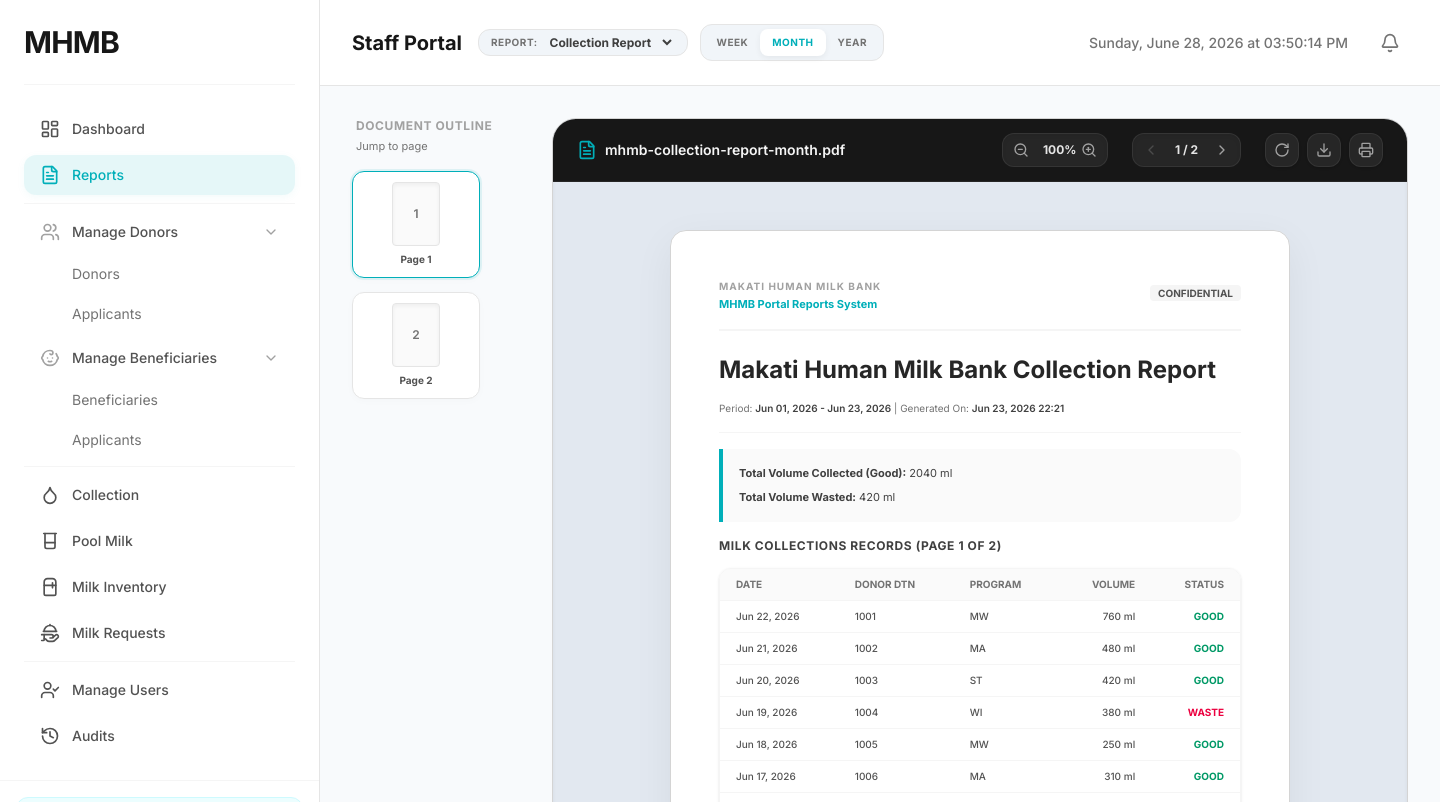
StaffReports Component › allows switching report type and range, updating layout and filename
# Switch to processing report
Select "Processing Report" in the dropdown with test id "report-type-select" at (610, 42), box [546,34,675,51]
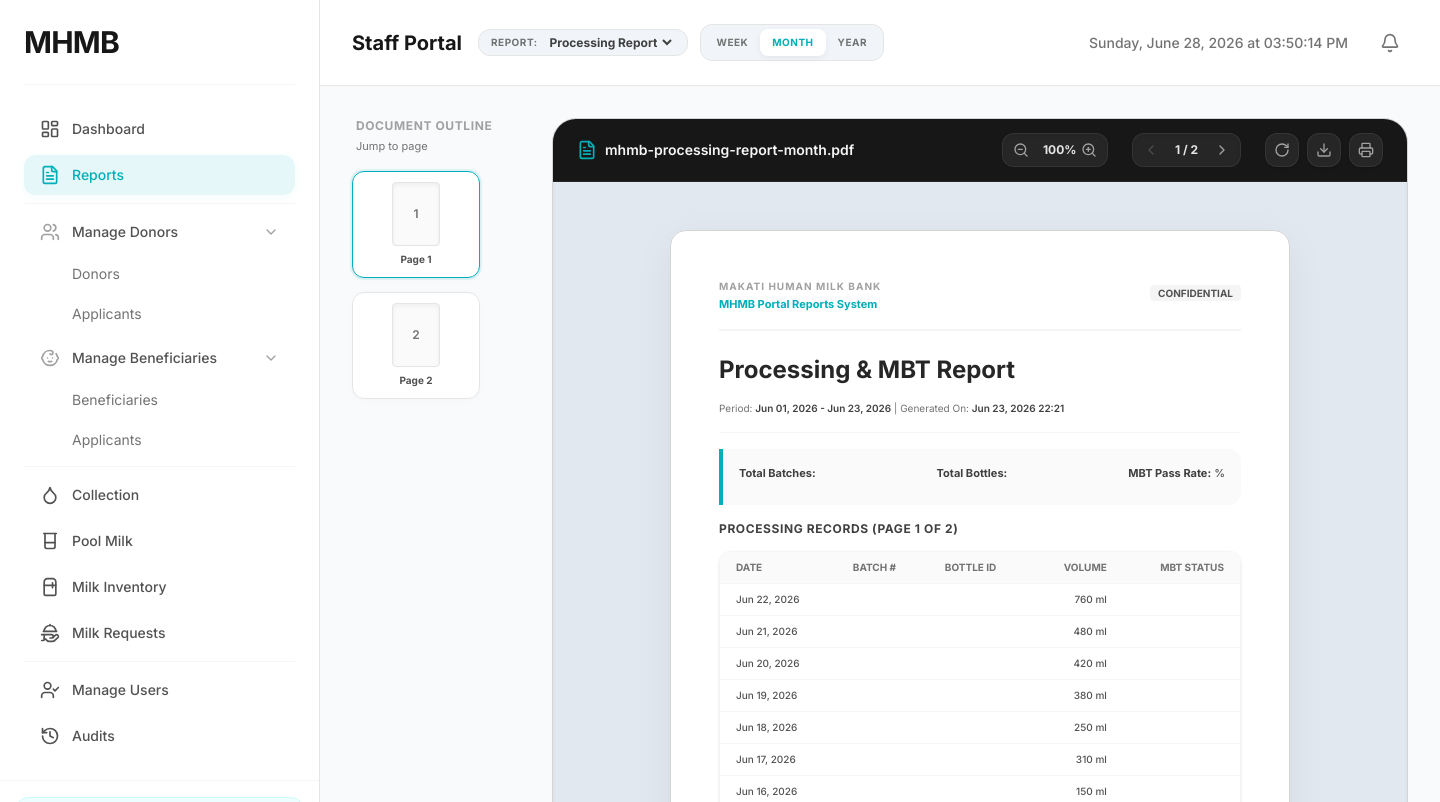
Check: the text "mhmb-processing-report-month.pdf" is shown, box [605,140,854,160]
# Switch range to week
Click the button with test id "range-btn-week" at (732, 42), box [705,29,760,56]
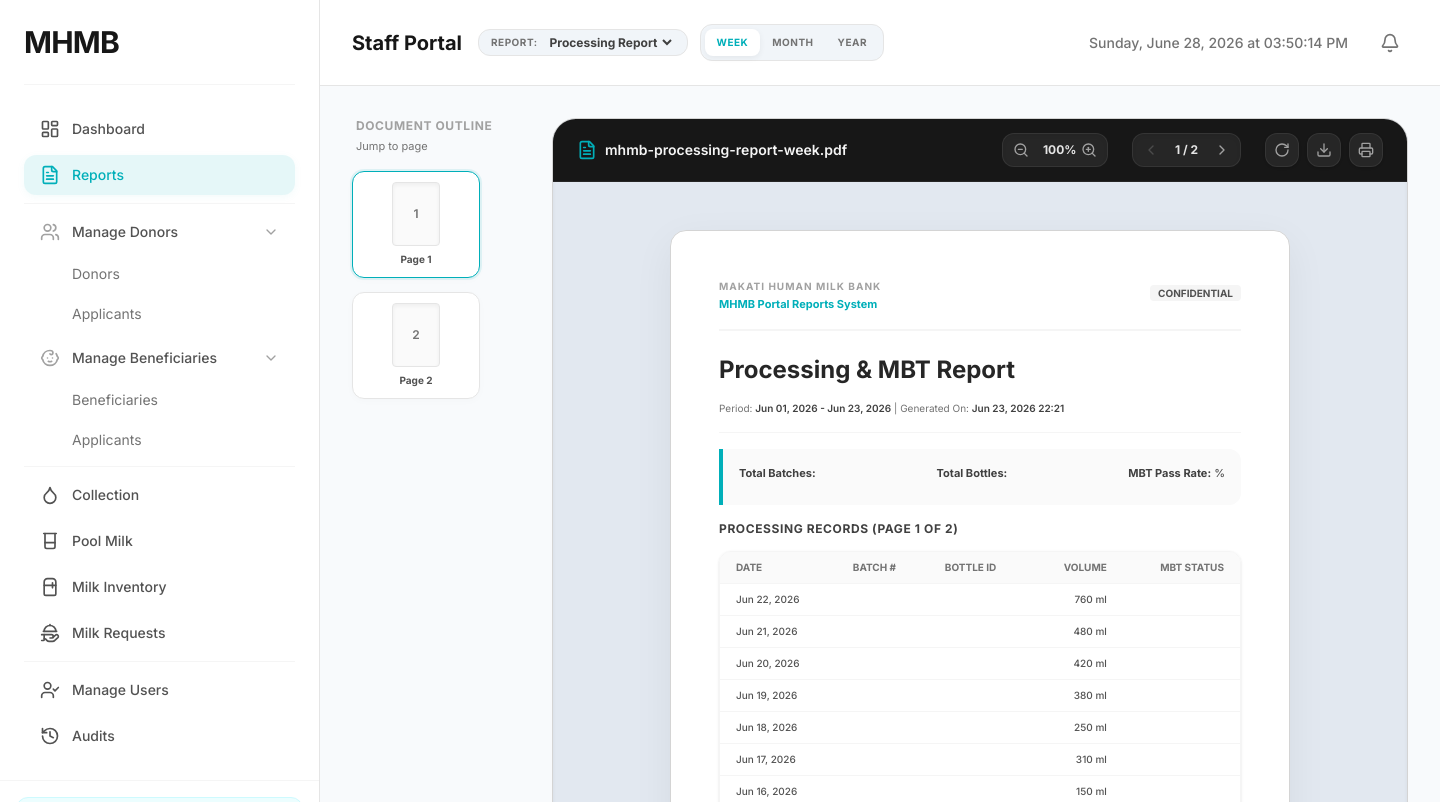
Check: the text "mhmb-processing-report-week.pdf" is shown, box [605,140,847,160]
